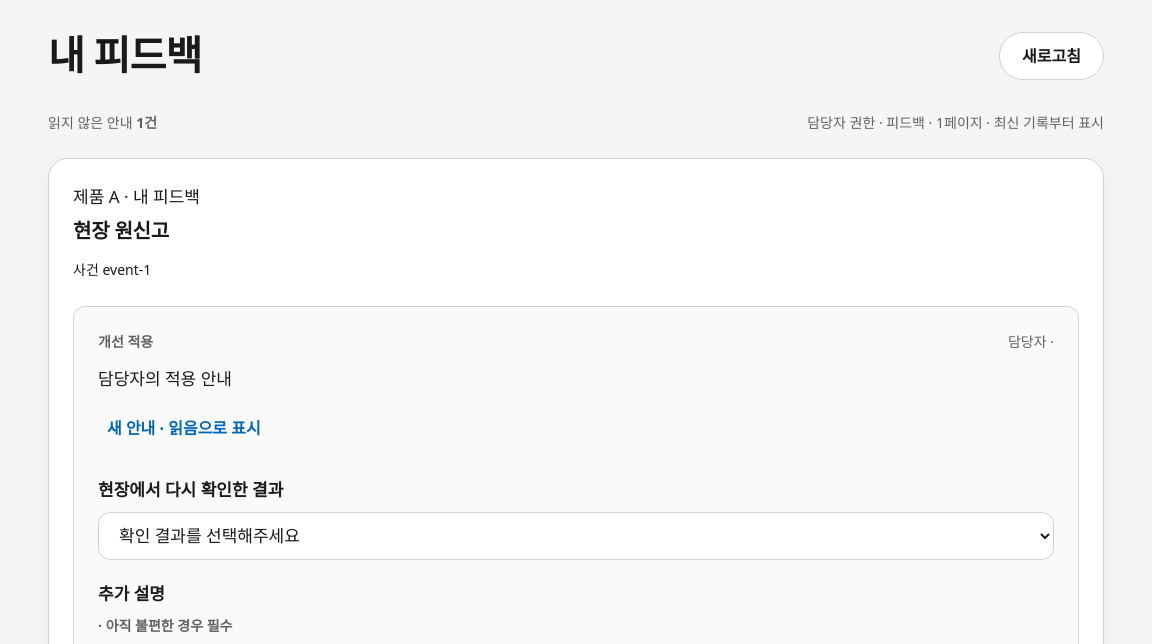
Test: requires exact legacy target identity for read_update
expect the heading "현장 원신고" is shown: met, box [73,217,169,244]
Click the button "새 안내 · 읽음으로 표시".
click(184, 428)  # box [98,404,270,452]
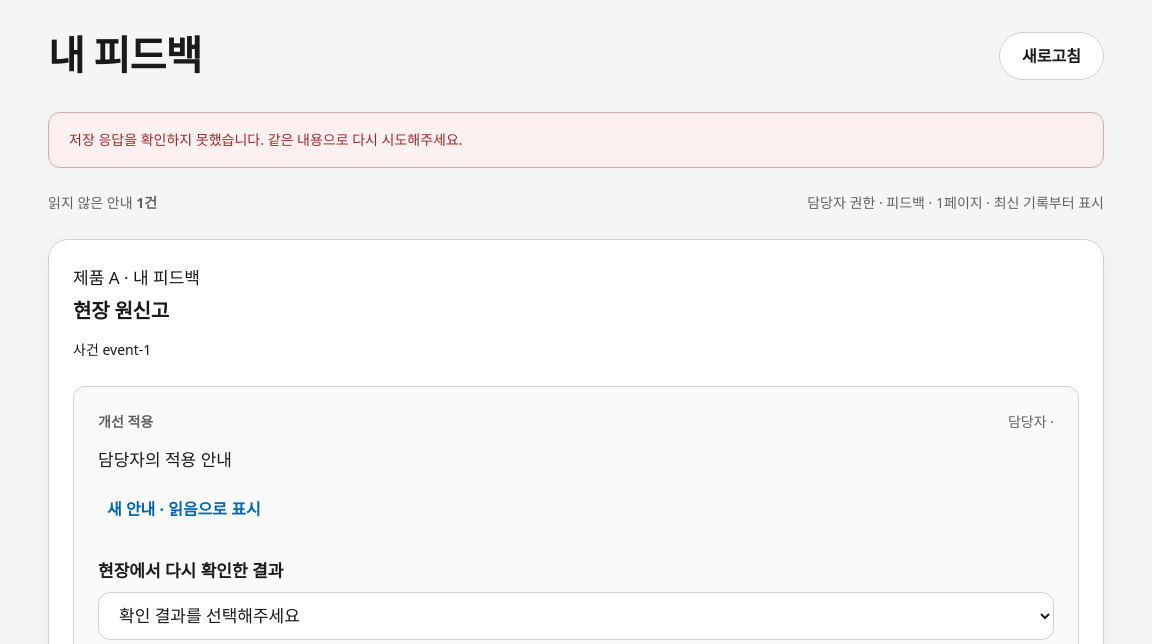
expect the message "저장 응답을 확인하지 못했습니다. 같은 내용으로 다시 시도해주세요." is shown: met, box [48,112,1104,168]
